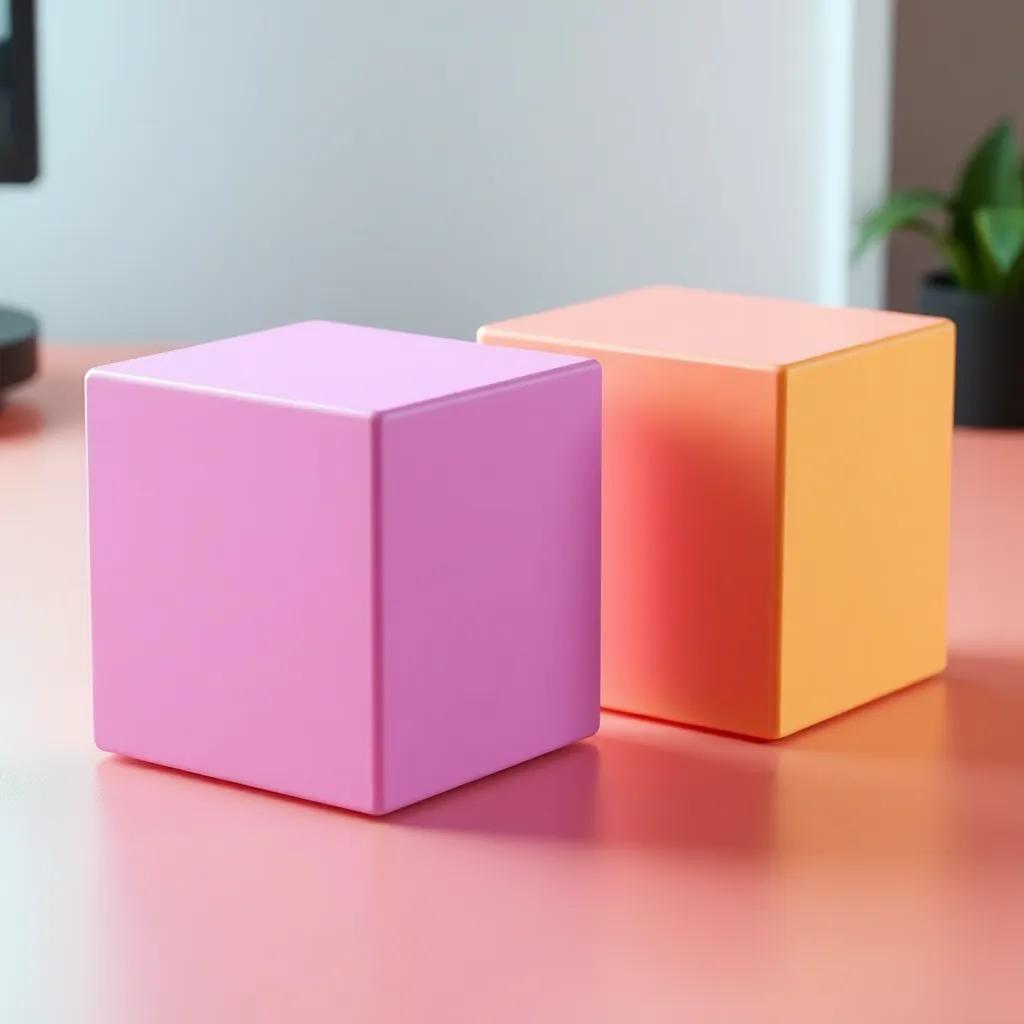cube: (83, 316, 603, 817), (475, 281, 956, 742)
